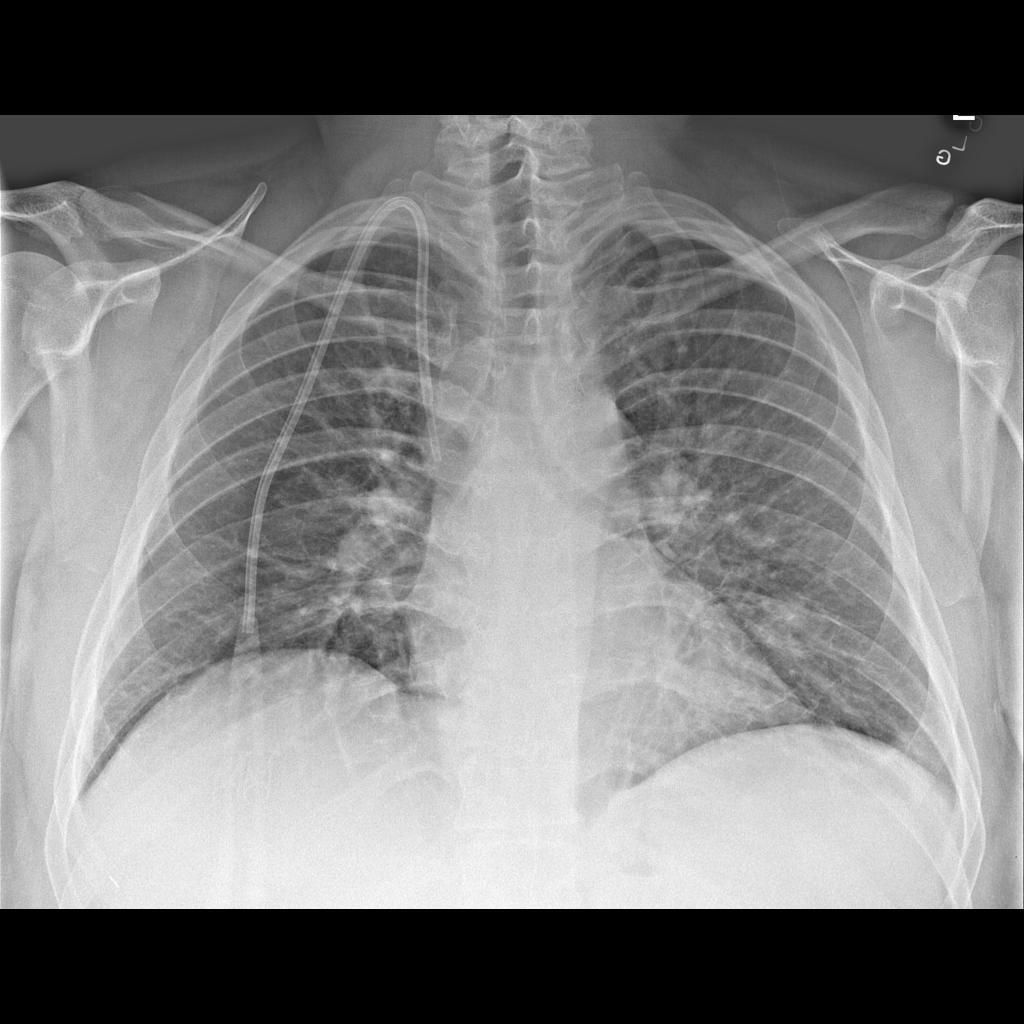Nodule: (747, 578, 842, 668)
